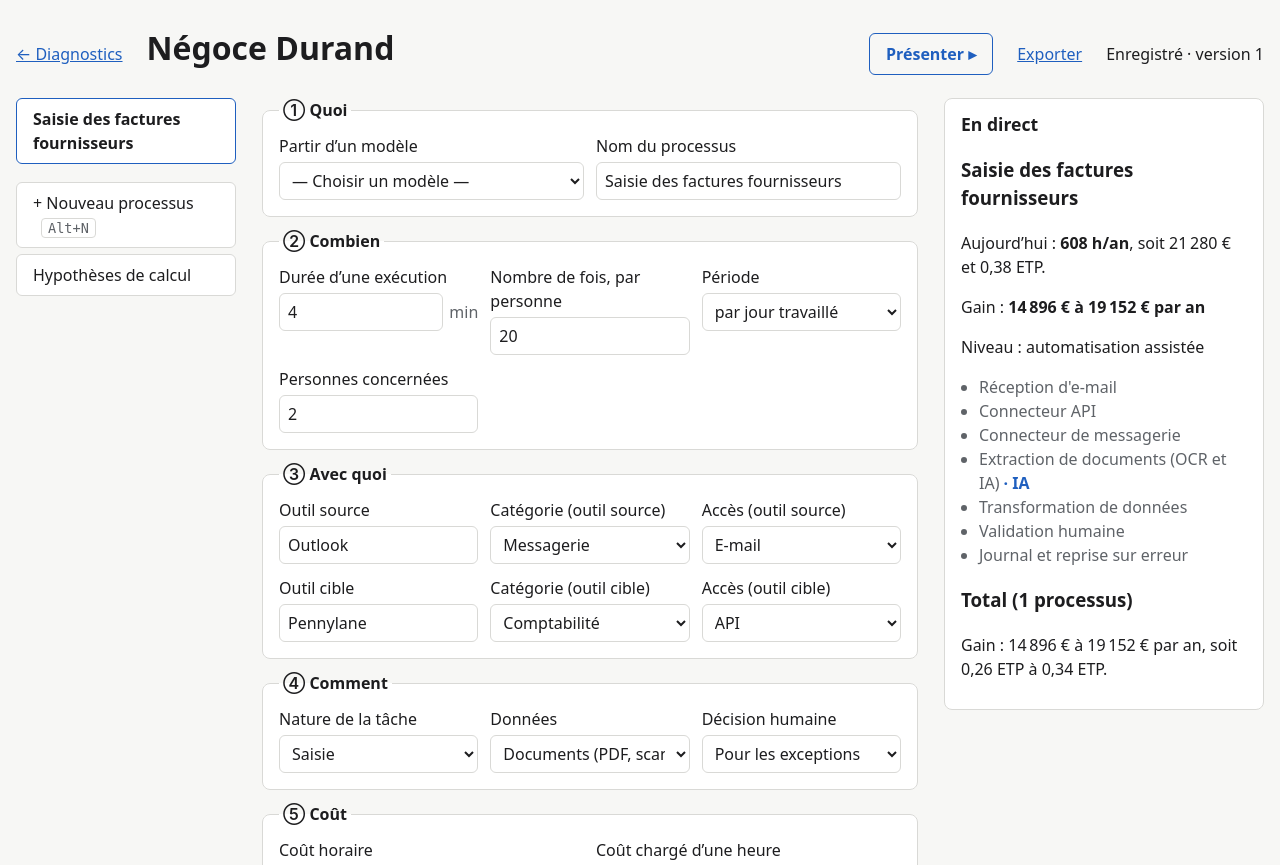
Test case: Entretien › signale sous le champ une valeur refusée, sans rien envoyer
Expected: the heading "Négoce Durand" is shown, [146, 26, 394, 69]
Replace the text in the field labelled "Personnes concernées" with "0": (379, 414) [279, 395, 478, 433]
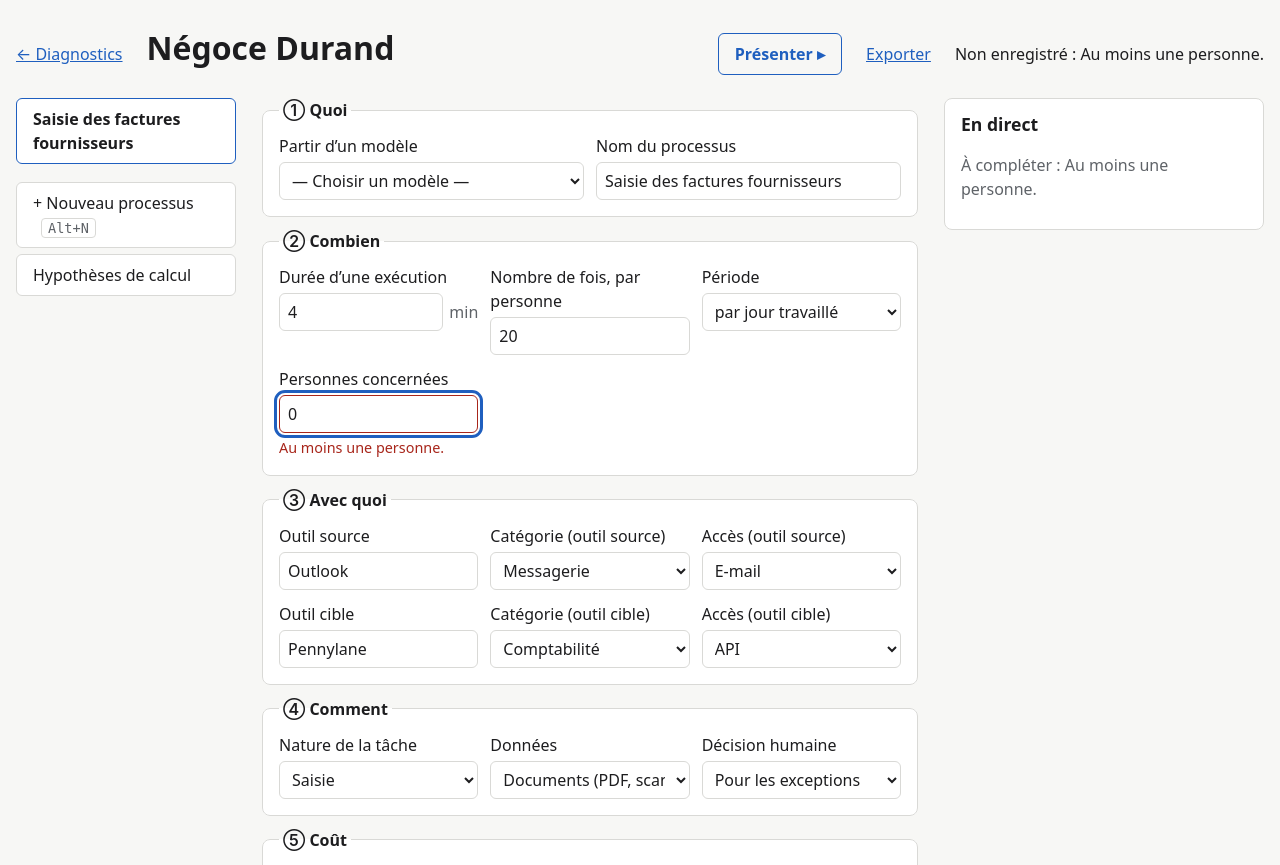
Expected: the message "Non enregistré : Au moins une personne." is shown, [955, 42, 1264, 66]
